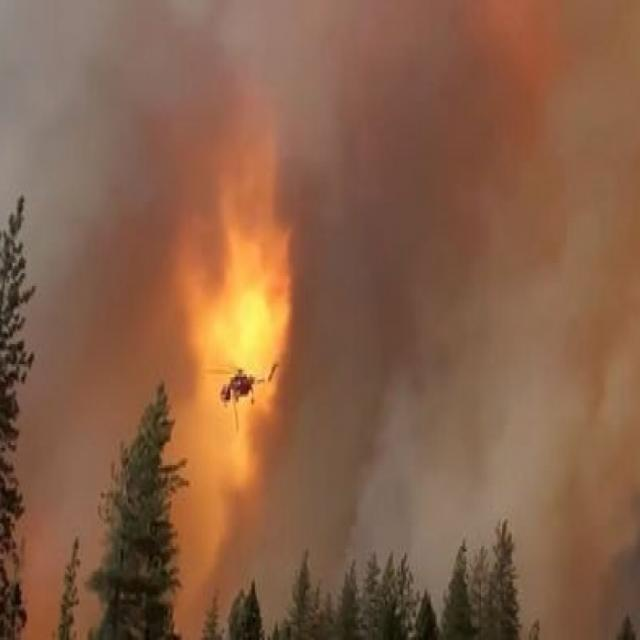Fire: (224, 256, 291, 384)
Smoke: (16, 44, 178, 640), (251, 122, 381, 619)
